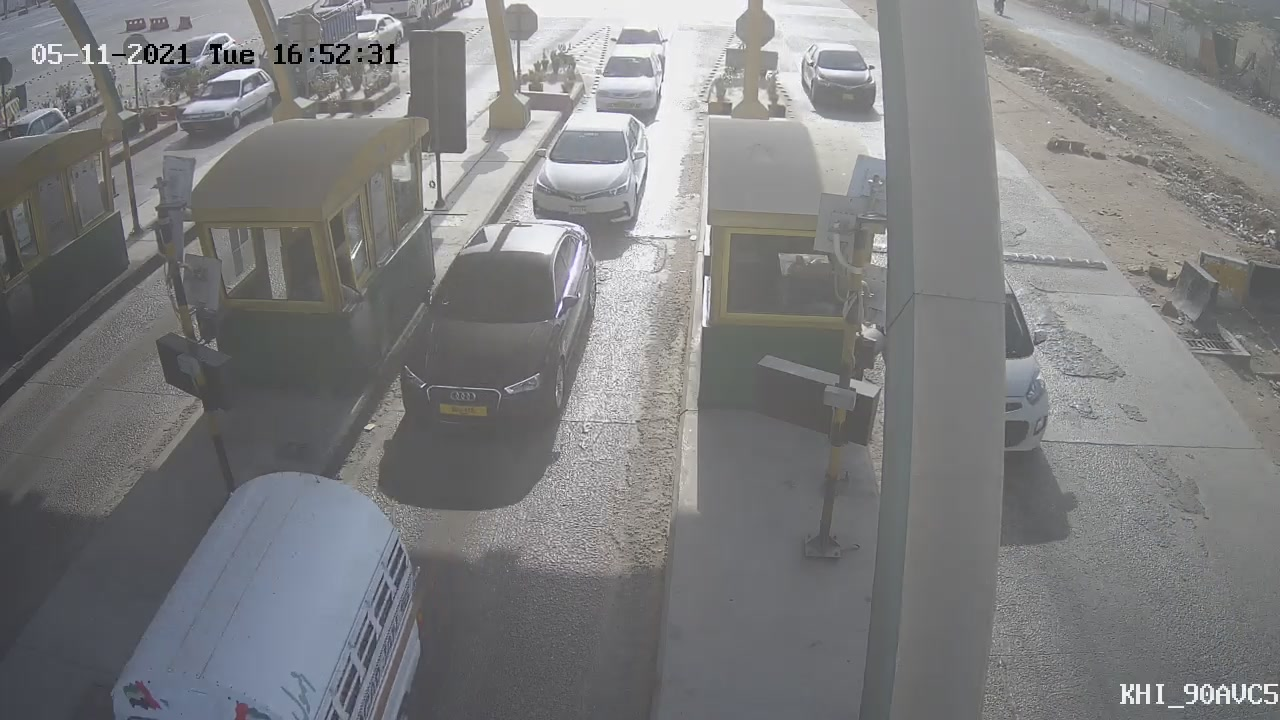F1: (381, 204, 617, 459), (511, 94, 664, 243), (576, 39, 678, 126)
